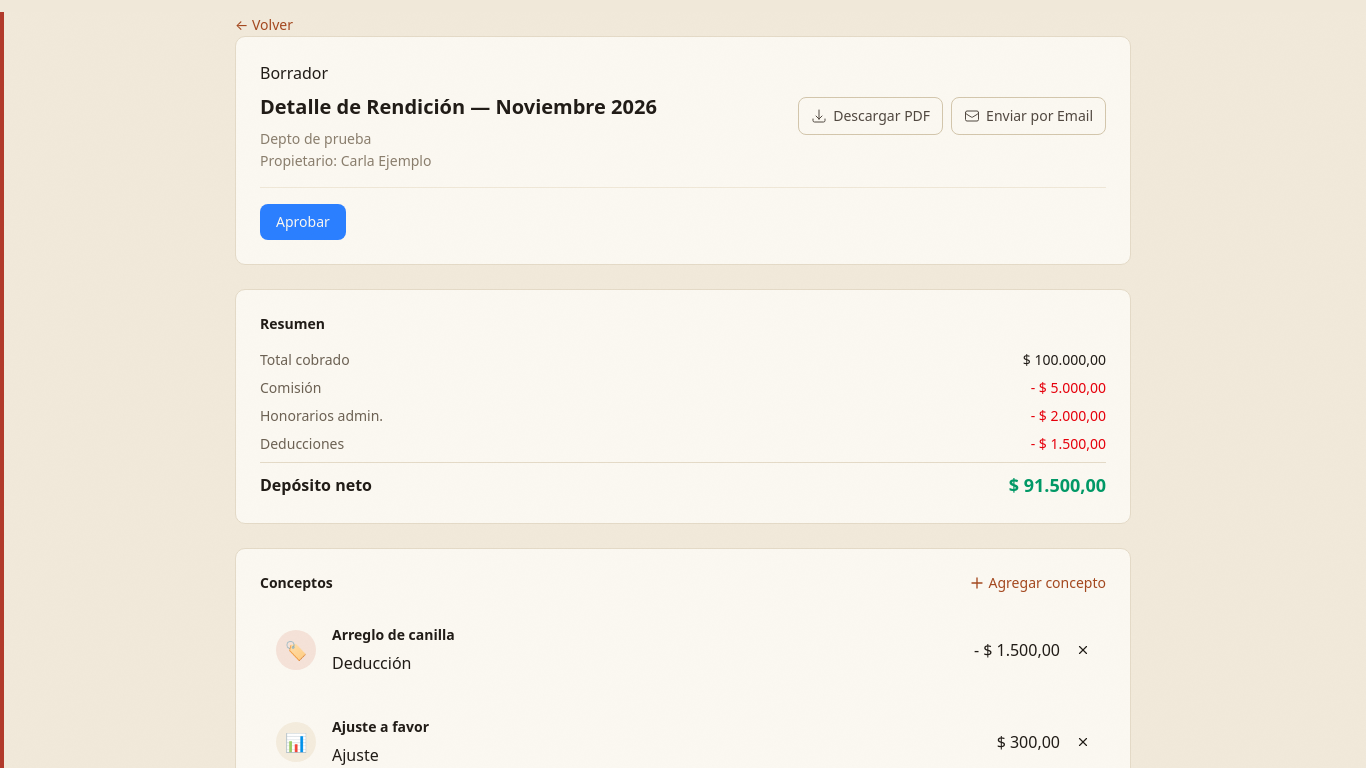
Scenario: RenditionDetail › aprueba la rendición y recarga
The image size is (1366, 768).
Expected: the heading "Detalle de Rendición — Noviembre 2026" is shown, top-left (260, 93), bottom-right (657, 121)
Click the button "Aprobar" at (303, 222), box top-left (260, 204), bottom-right (346, 240)
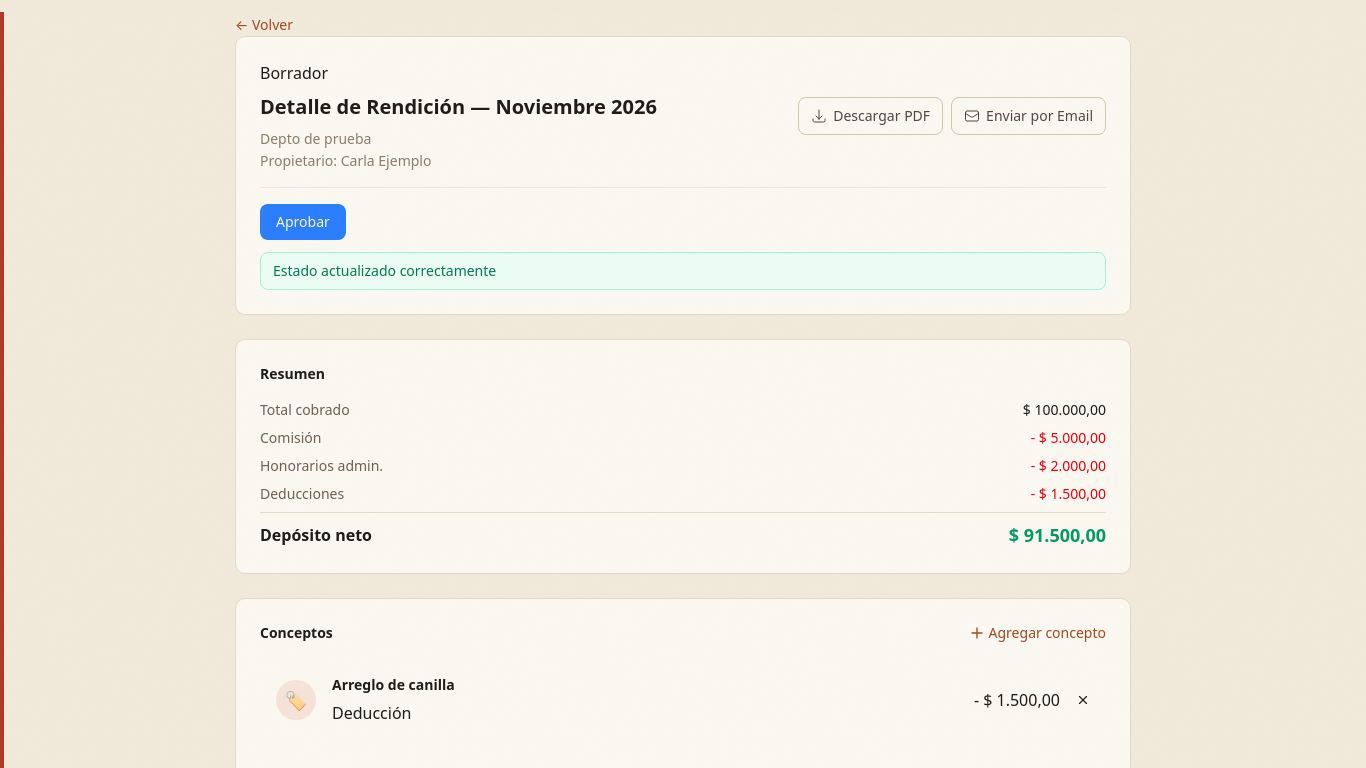
Expected: the text "Estado actualizado correctamente" is shown, top-left (260, 252), bottom-right (1106, 290)
